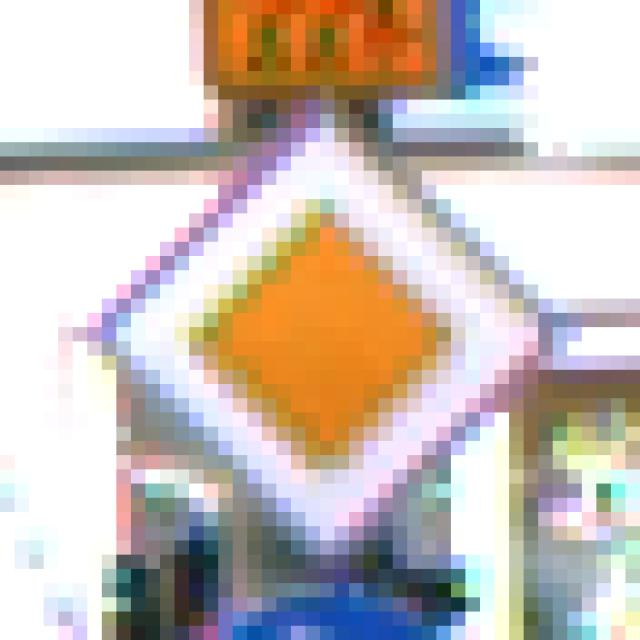Main Road: (74, 72, 568, 570)
